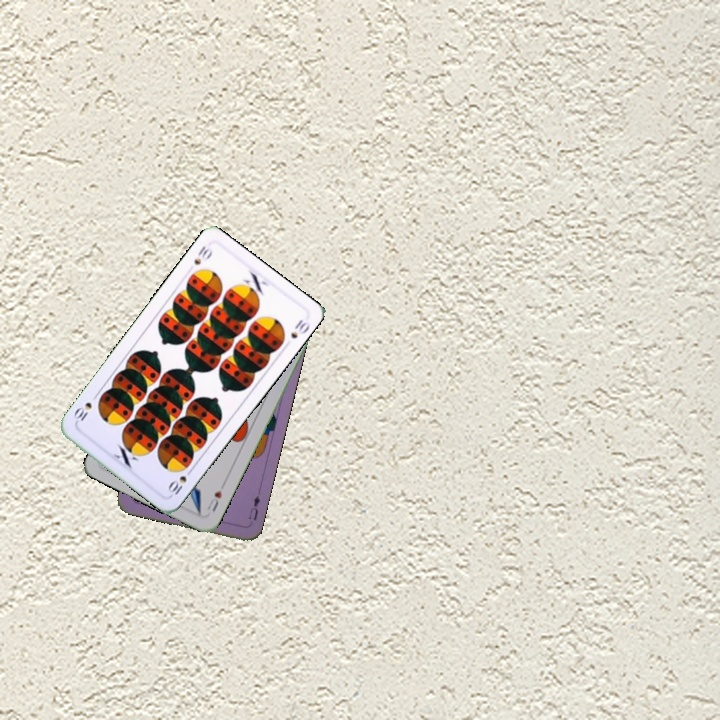EU: (244, 492, 263, 523)
HU: (202, 486, 224, 514)
S10: (164, 464, 196, 497), (190, 242, 215, 267)
